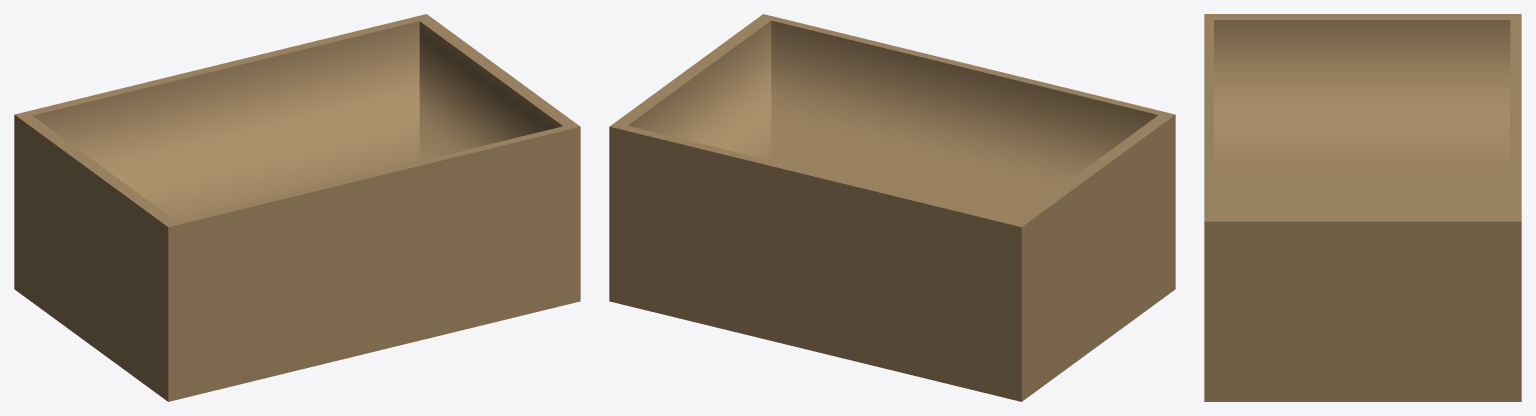
Rendered from BoxHollow_bottom.fbx.
3 views of the same model, side by side, from view 1: azimuth 30°, elevation 25°; view 2: azimuth 150°, elevation 25°; view 3: azimuth 270°, elevation 25° (orthographic). The views are drawn at different scales.
Visible parts, largest first — view 1: polySurface2; view 2: polySurface2; view 3: polySurface2.
Boxes of the visible parts, x1,y1,x2,y2 form: polySurface2: (14, 14, 580, 401); polySurface2: (609, 14, 1175, 401); polySurface2: (1204, 14, 1521, 401).
Size of the model in its own units: 9.52 by 3.86 by 6.16.
